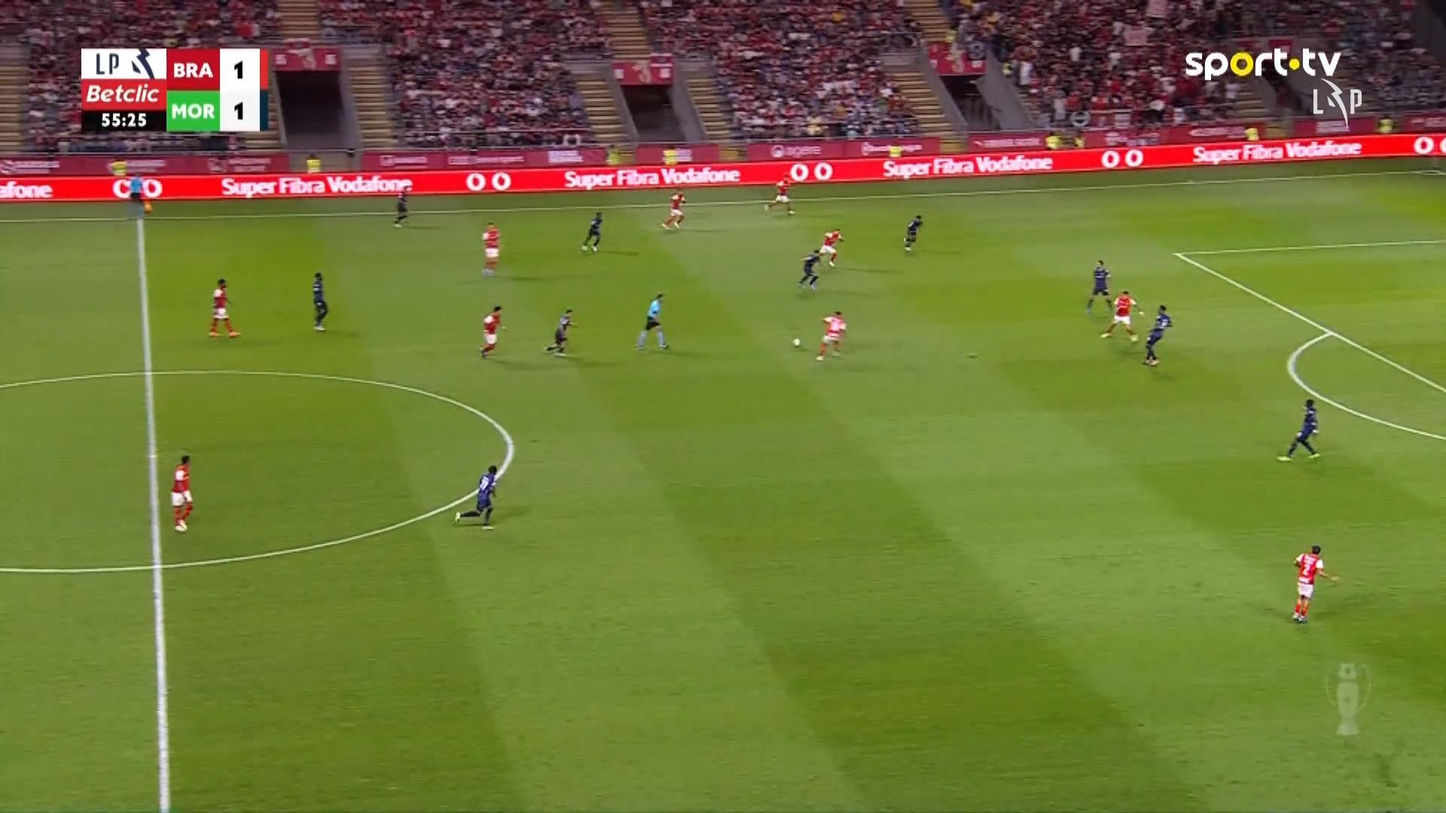ball: (792, 337, 801, 347)
player: (1291, 544, 1338, 623), (453, 464, 499, 529), (1277, 397, 1320, 461), (1099, 288, 1142, 342), (207, 277, 240, 338), (1141, 303, 1172, 366), (169, 454, 194, 532), (542, 307, 578, 356), (814, 309, 847, 361), (1085, 258, 1112, 313), (478, 305, 505, 358), (763, 175, 796, 215), (480, 221, 501, 276), (797, 248, 822, 290), (659, 190, 685, 230), (311, 271, 328, 331), (819, 227, 844, 267), (580, 211, 603, 253), (902, 213, 923, 252), (392, 187, 409, 227)
referee: (634, 291, 669, 350), (126, 176, 151, 218)
